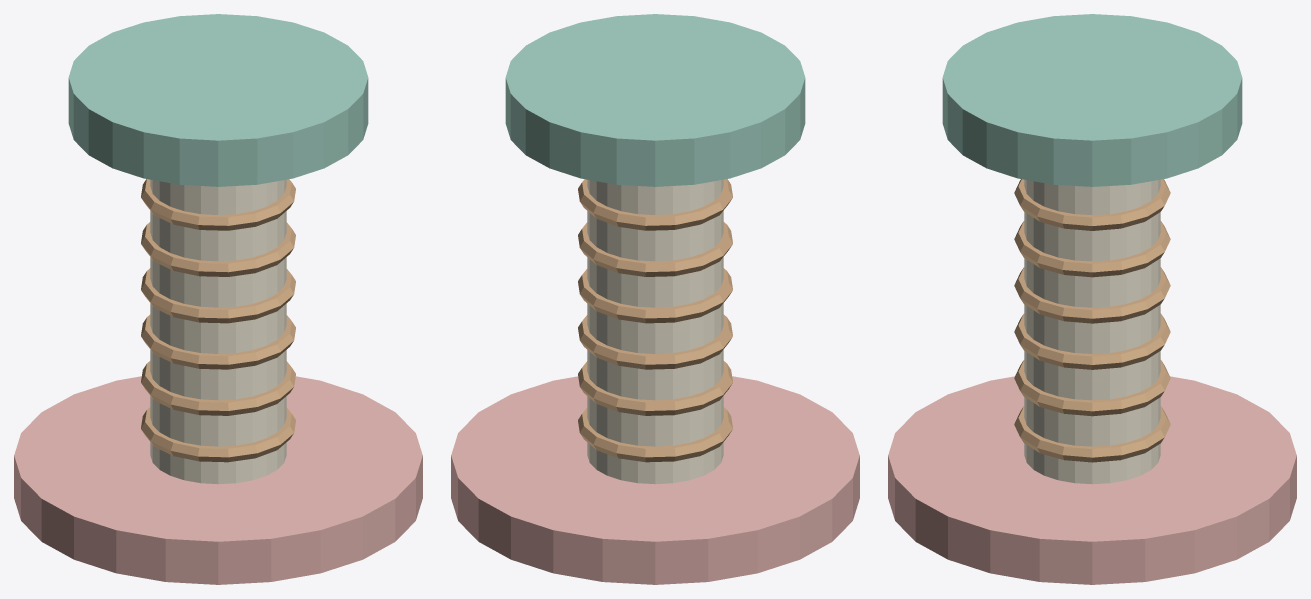
The model's file is scratch.glb.
3 renders of one model, left to right at view 1: azimuth 30°, elevation 25°; view 2: azimuth 150°, elevation 25°; view 3: azimuth 270°, elevation 25°, orthographic.
Parts seen in each view (by area): view 1: soft base, top cushion, scratching column, Torus; view 2: soft base, top cushion, scratching column, Torus; view 3: soft base, top cushion, scratching column, Torus.
Part boxes in pixels (left/top/right/bottom): soft base: left=14, top=376, right=422, bottom=584; top cushion: left=68, top=14, right=368, bottom=186; scratching column: left=150, top=179, right=286, bottom=484; Torus: left=141, top=179, right=295, bottom=462; soft base: left=451, top=376, right=859, bottom=584; top cushion: left=505, top=14, right=805, bottom=186; scratching column: left=587, top=179, right=723, bottom=484; Torus: left=578, top=179, right=732, bottom=462; soft base: left=888, top=376, right=1296, bottom=584; top cushion: left=942, top=14, right=1242, bottom=186; scratching column: left=1024, top=179, right=1160, bottom=484; Torus: left=1014, top=179, right=1170, bottom=462.
Bounding box in the file's own units: 1.2 × 1.36 × 1.2.
